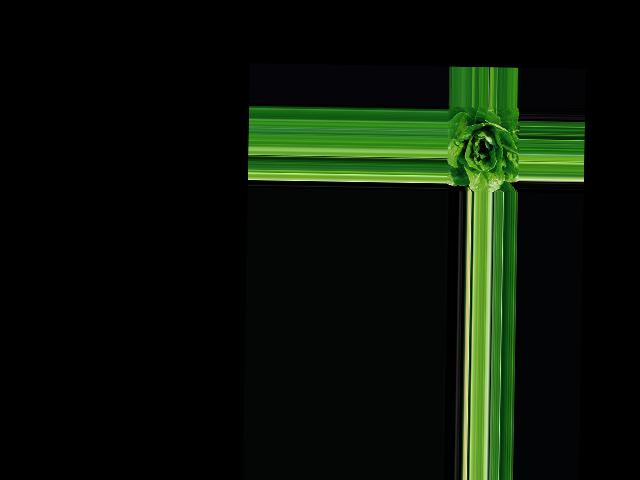lettuce: (449, 107, 520, 188)
